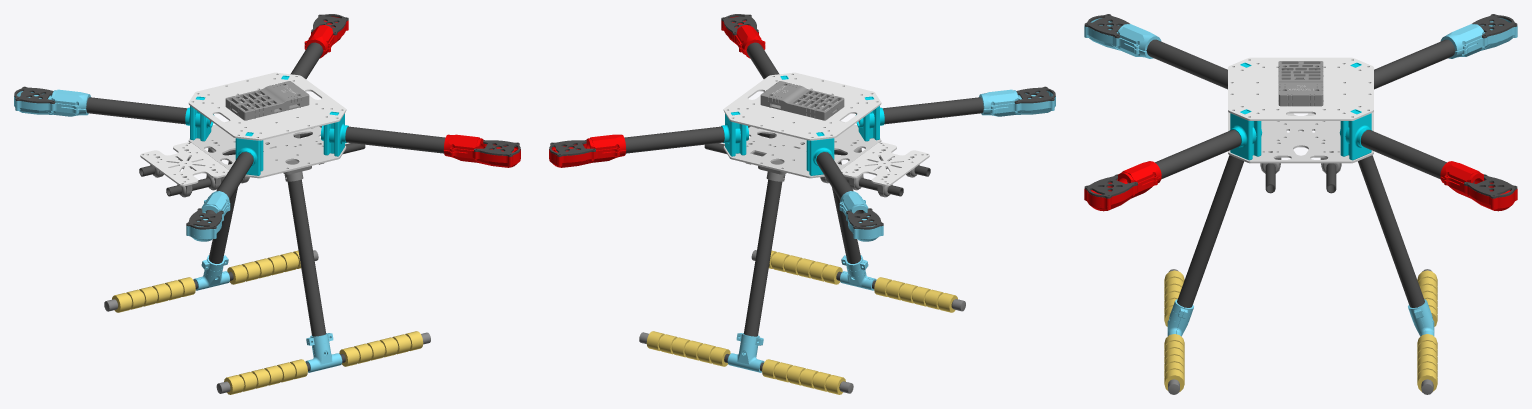
File: holybro_x500_frame.dae
3 renders of one model, left to right at view 1: azimuth 30°, elevation 25°; view 2: azimuth 150°, elevation 25°; view 3: azimuth 270°, elevation 25°, orthographic. The views are drawn at different scales.
Visible parts, largest first — view 1: Holybro_X500_v2 v9; view 2: Holybro_X500_v2 v9; view 3: Holybro_X500_v2 v9.
Part boxes in pixels (box(x1,y1,x2,y2)): Holybro_X500_v2 v9: box(14, 14, 520, 394); Holybro_X500_v2 v9: box(549, 14, 1055, 394); Holybro_X500_v2 v9: box(1084, 14, 1517, 394).
Size of the model in its own units: 0.4273 by 0.4273 by 0.2876.
